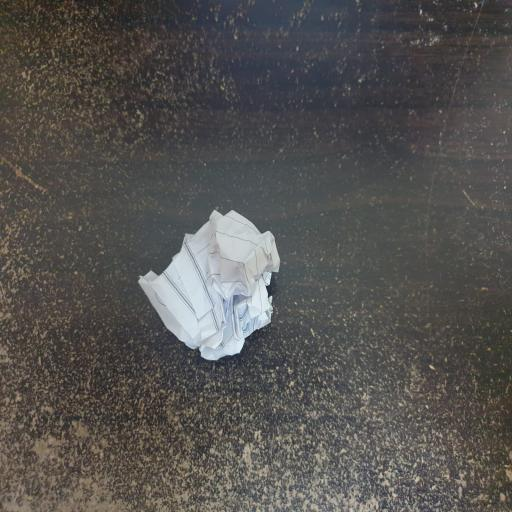Kertas: (137, 201, 280, 364)
